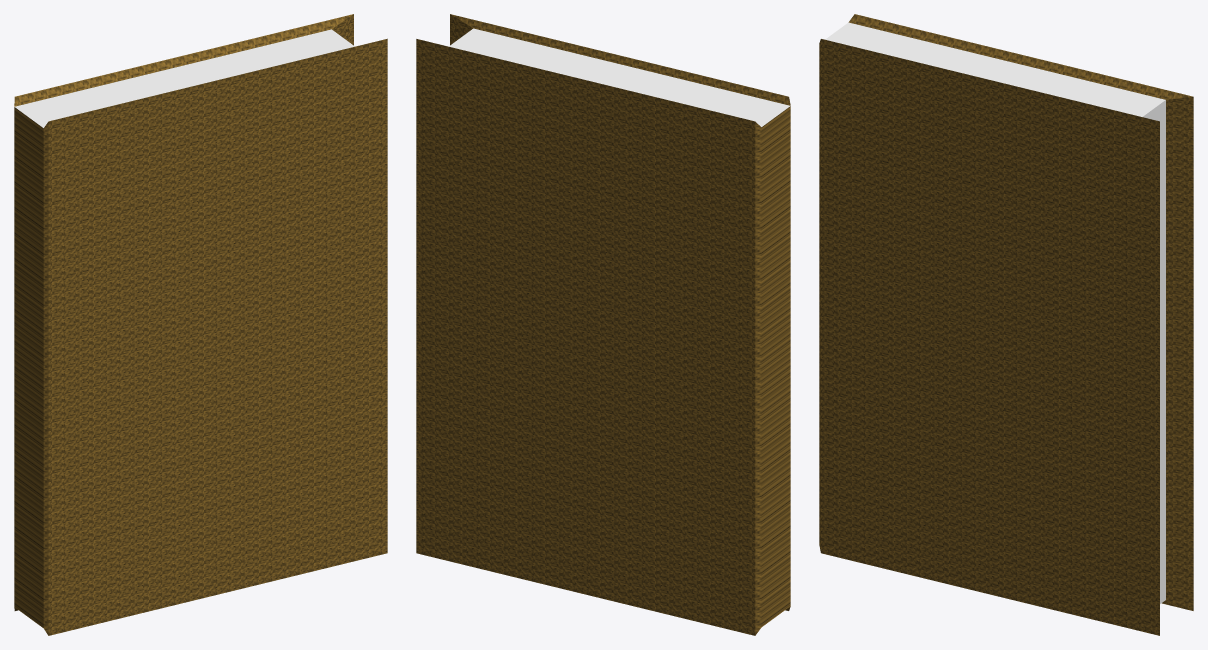
The model's file is diaryFBX.fbx.
3 renders of one model, left to right at view 1: azimuth 30°, elevation 25°; view 2: azimuth 150°, elevation 25°; view 3: azimuth 330°, elevation 25°, orthographic.
Parts seen in each view (by area): view 1: pCube1; view 2: pCube1; view 3: pCube1.
Part boxes in pixels (x1,y1,x2,y2): pCube1: (14,14,387,635); pCube1: (416,14,790,635); pCube1: (819,14,1193,635).
Bounding box in the file's own units: 4.2 × 6.04 × 0.7179.
